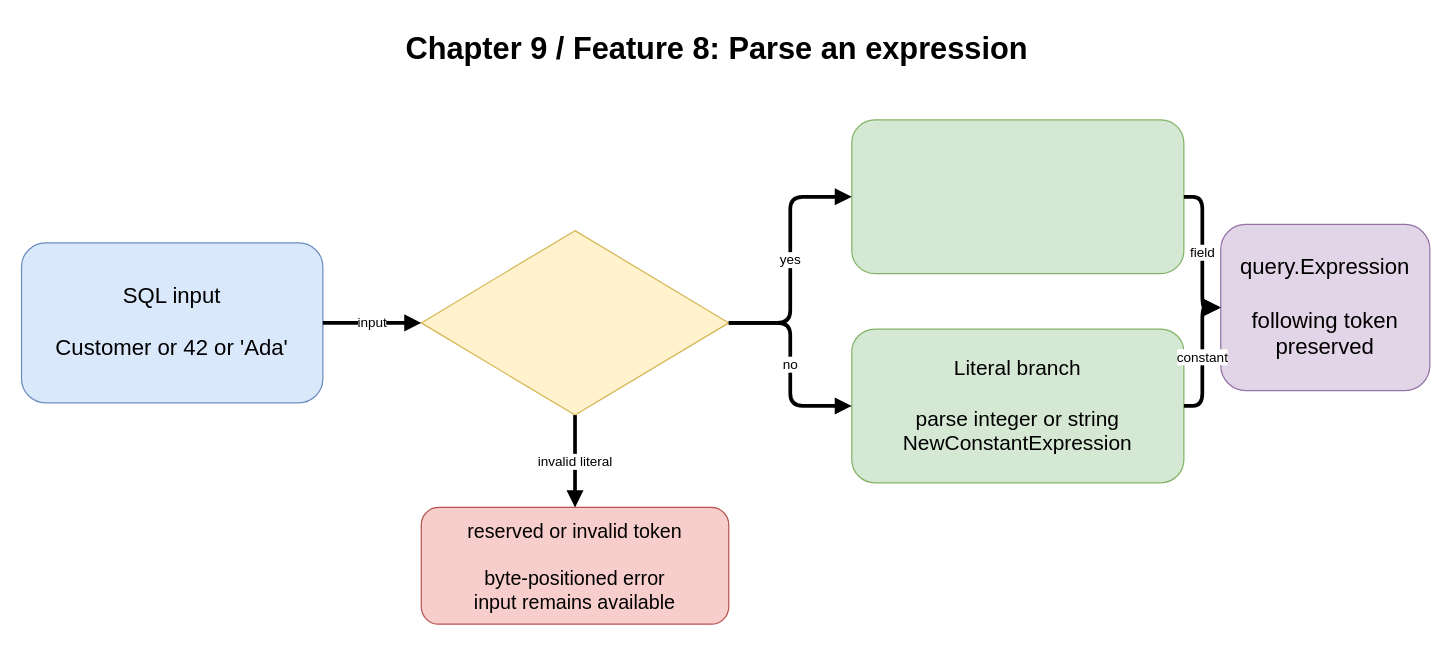
This 1451x646 diagram has some shape labels left out. The centre of each missing label's shape, as x and y in pixels:
"Field branch consume identifier NewFieldExpression(lowercase)" goes at point (1017, 196).
"Parser.ParseExpression() MatchIdentifier?" goes at point (574, 322).
